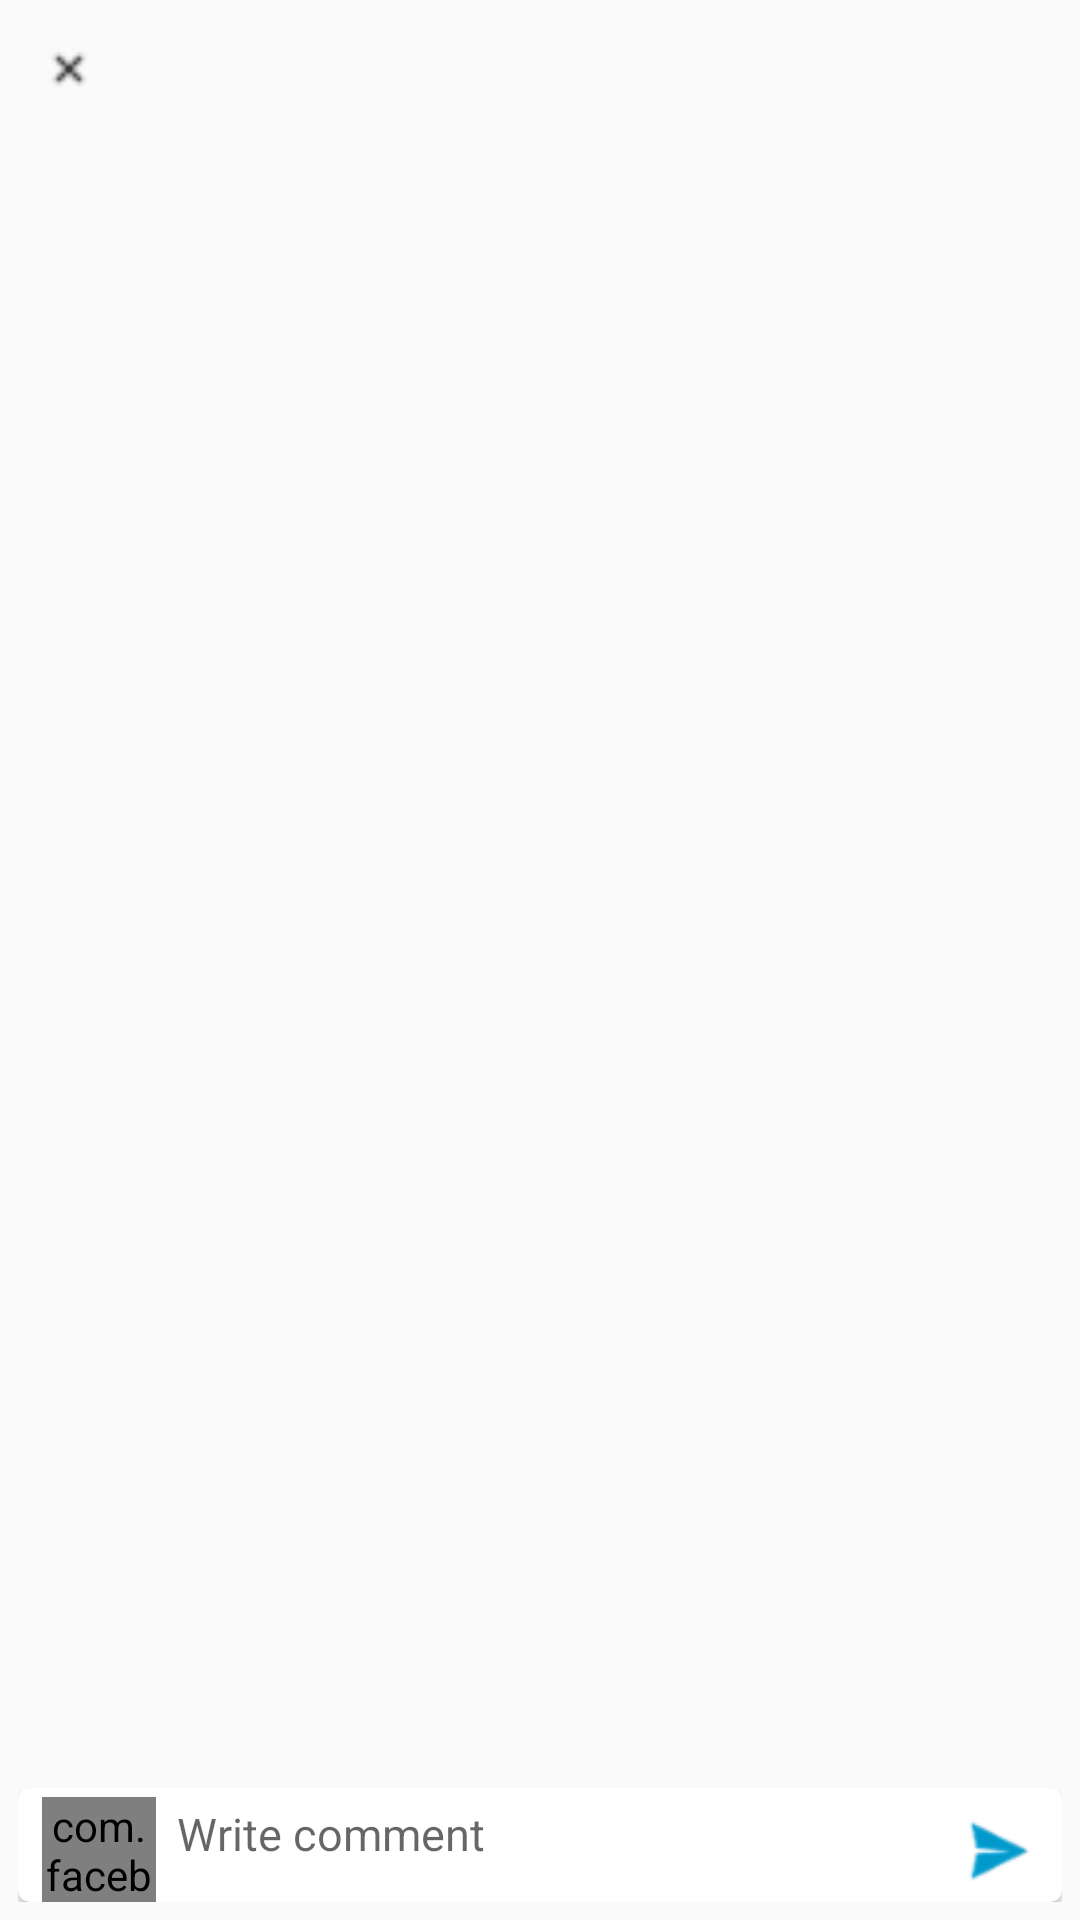

Icon bounding boxes for this 1080x1920 phone screenshot, format bbox=[x1, y1, x2, y2]:
close: bbox=[53, 53, 85, 85]
send: bbox=[970, 1822, 1028, 1880]
